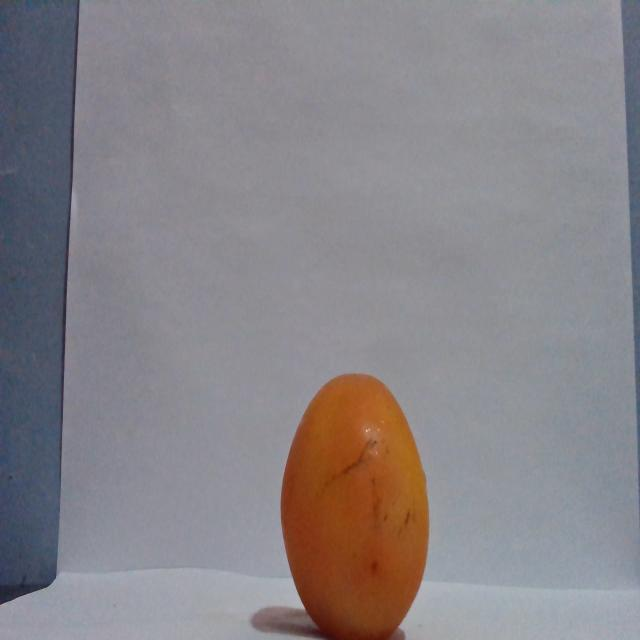Red: (278, 371, 430, 638)
